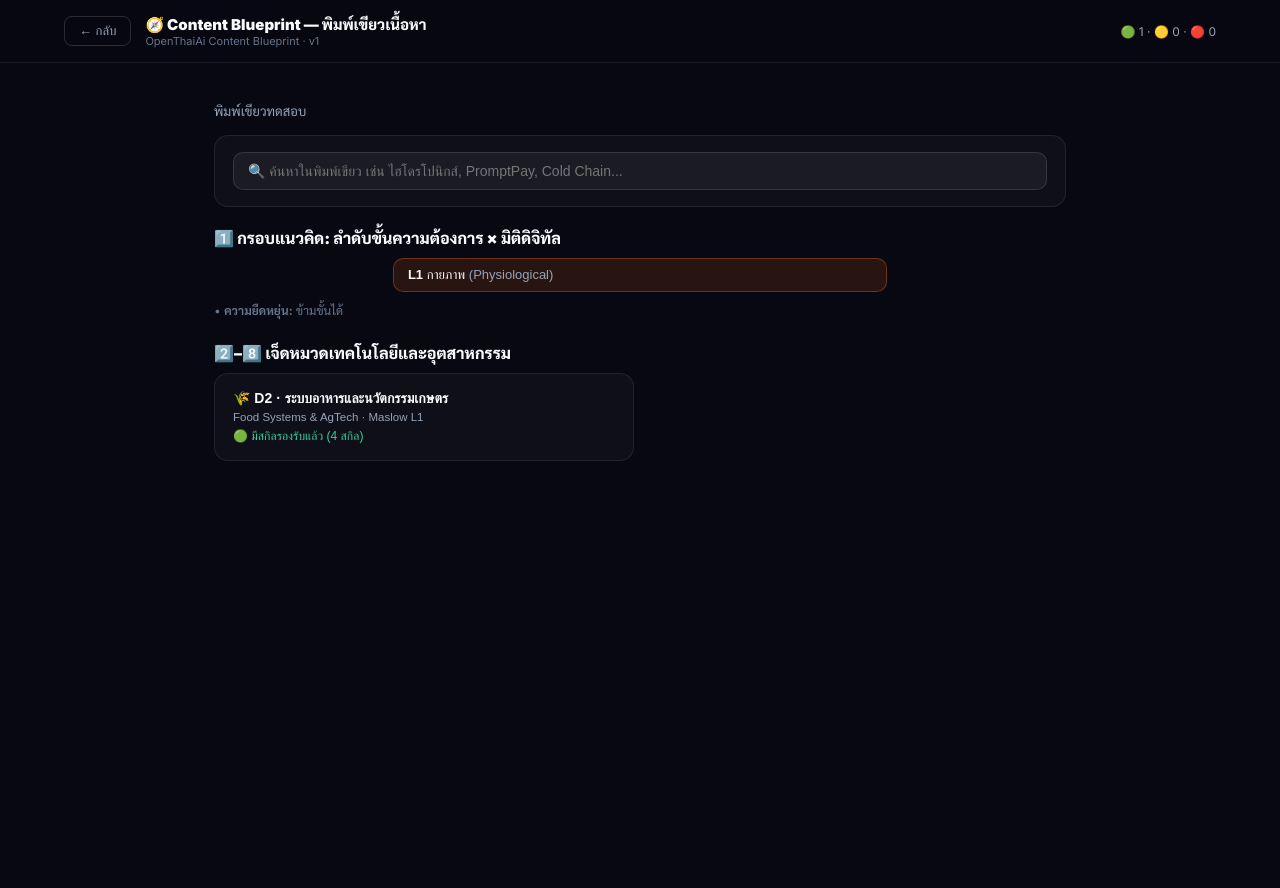
ContentBlueprintPage › requests a development brief and renders it
Click the text "🌾 D2 · ระบบอาหารและนวัตกรรมเกษตร".
click(341, 398)  # box [233,390,448,406]
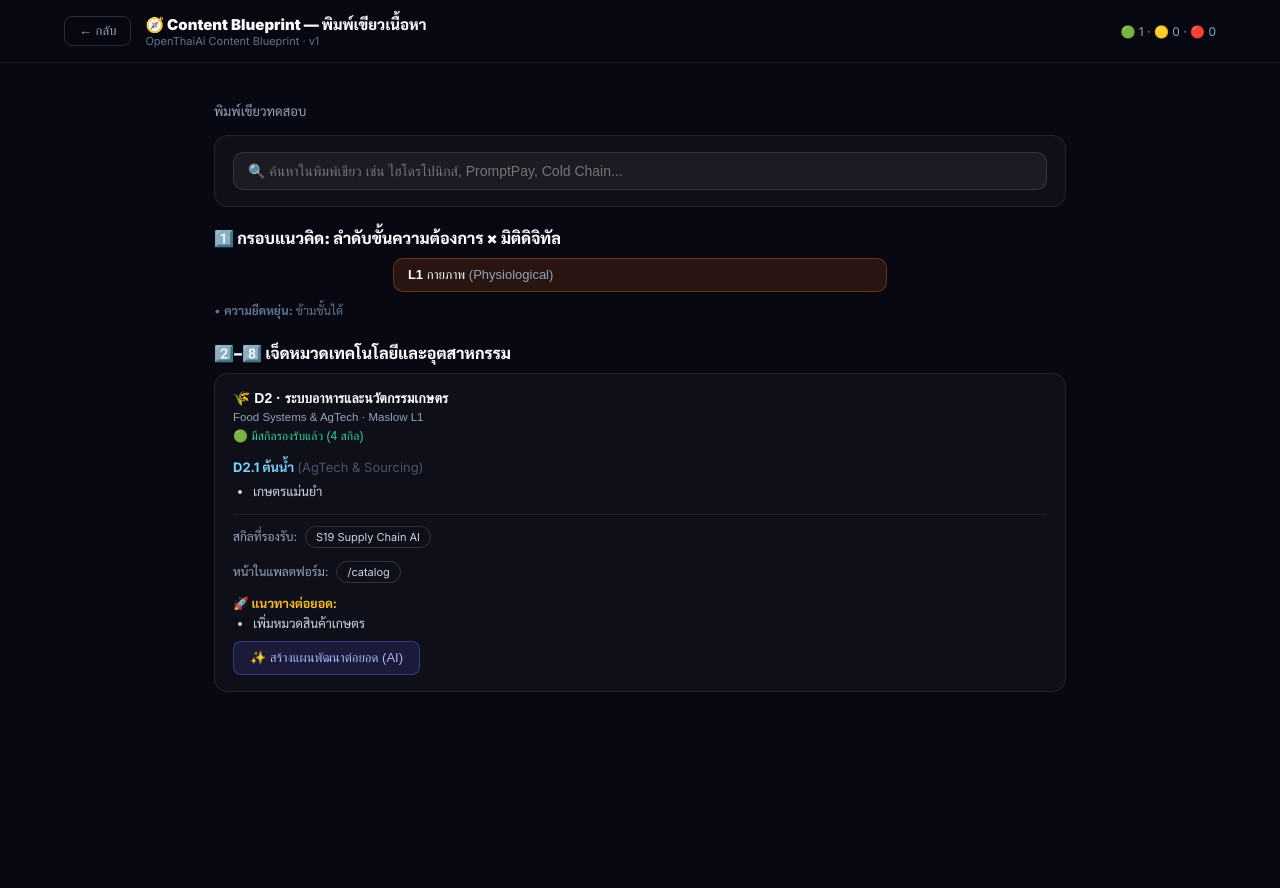
Click the button "✨ สร้างแผนพัฒนาต่อยอด (AI)".
click(326, 658)  # box [233,641,420,675]
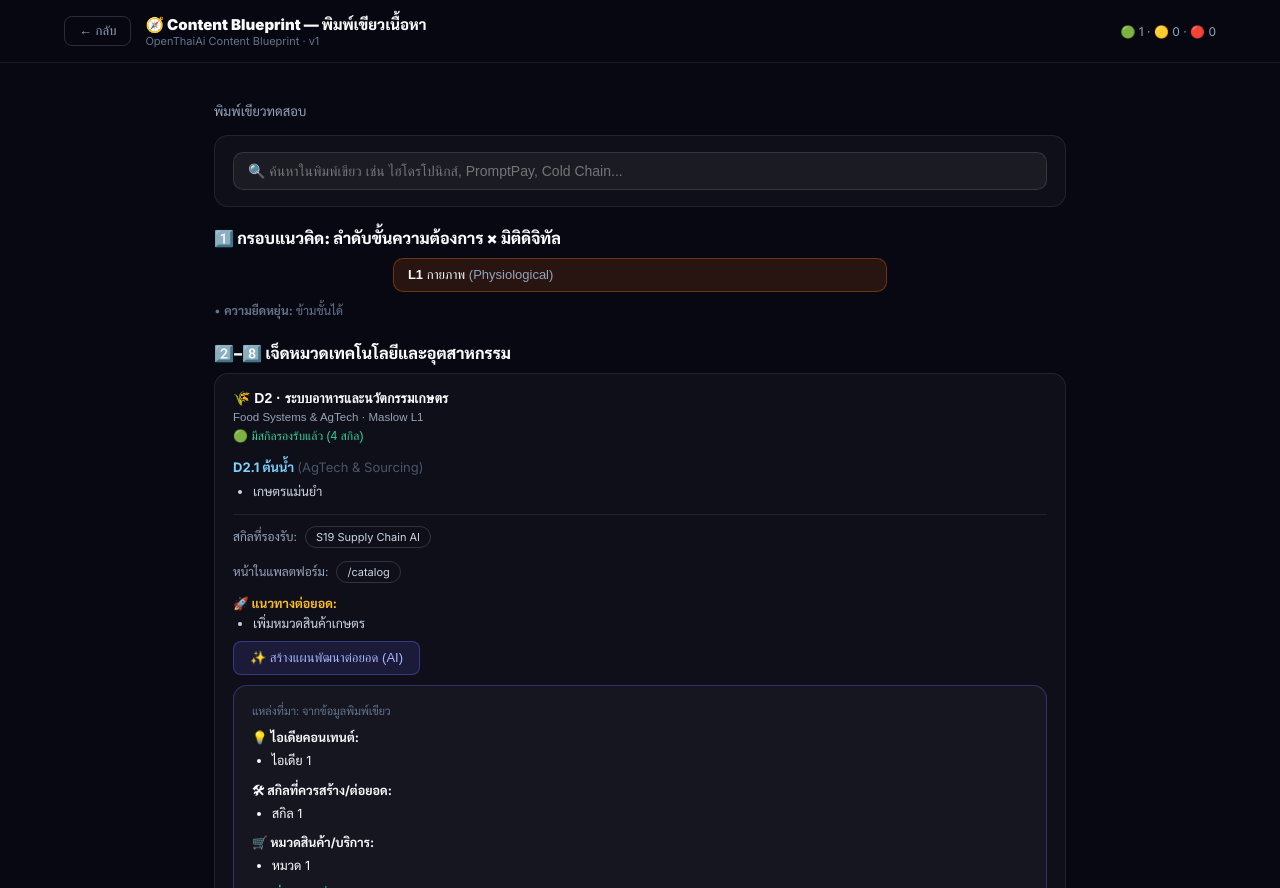
Expected: the list item "ไอเดีย 1" is shown, [272,753,311,768]
